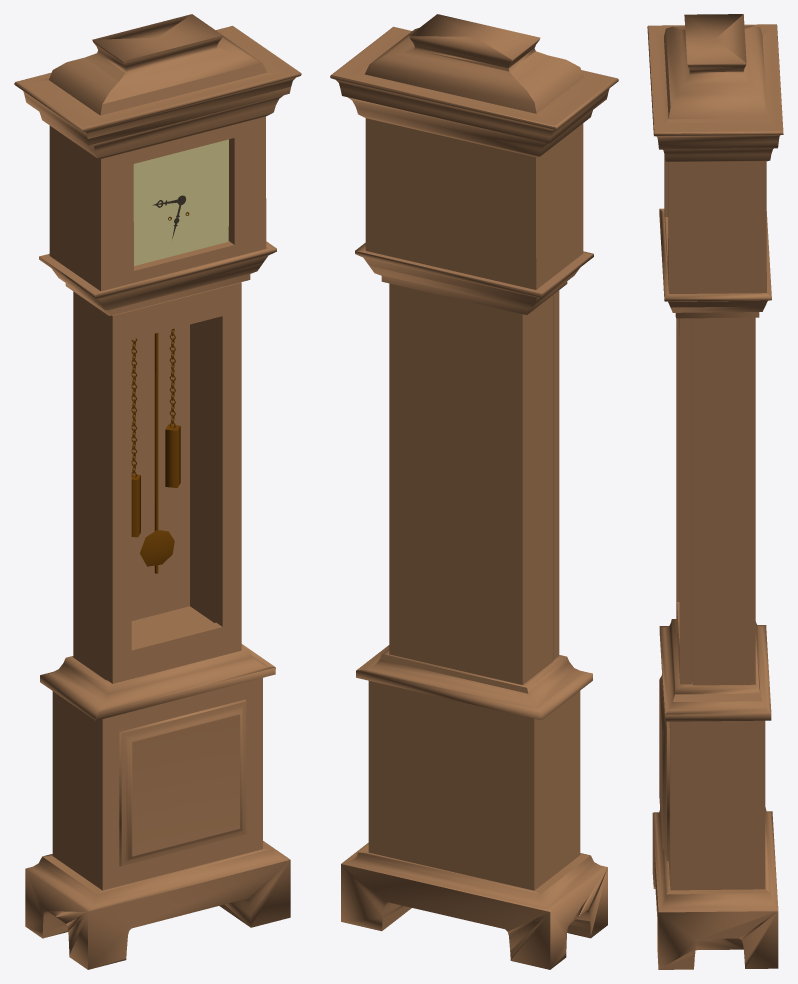
File: clock.fbx
The picture shows the model from 3 angles, left to right: view 1: azimuth 30°, elevation 25°; view 2: azimuth 150°, elevation 25°; view 3: azimuth 270°, elevation 25°; orthographic projection.
Visible parts, largest first — view 1: Clock; view 2: Clock; view 3: Clock.
Part boxes in pixels (x1,y1,x2,y2): Clock: [14, 14, 301, 969]; Clock: [330, 14, 618, 969]; Clock: [647, 14, 783, 969].
Size of the model in its own units: 6.44 by 24.16 by 3.38.
